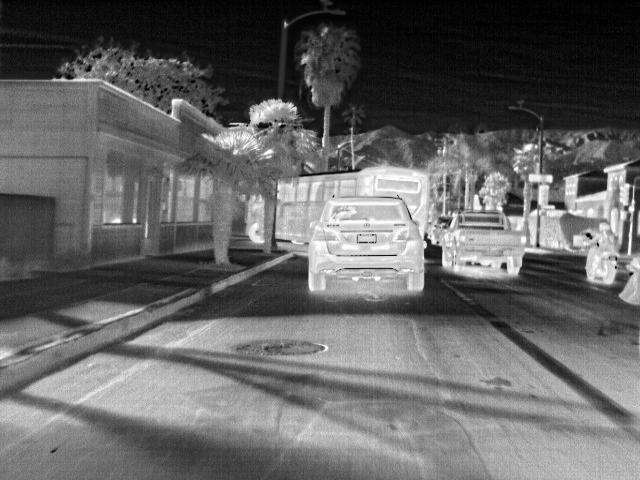car: (308, 195, 427, 294), (440, 210, 525, 278), (429, 213, 450, 244)
person: (598, 220, 620, 255)
